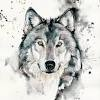Lobo: (12, 6, 87, 79)
